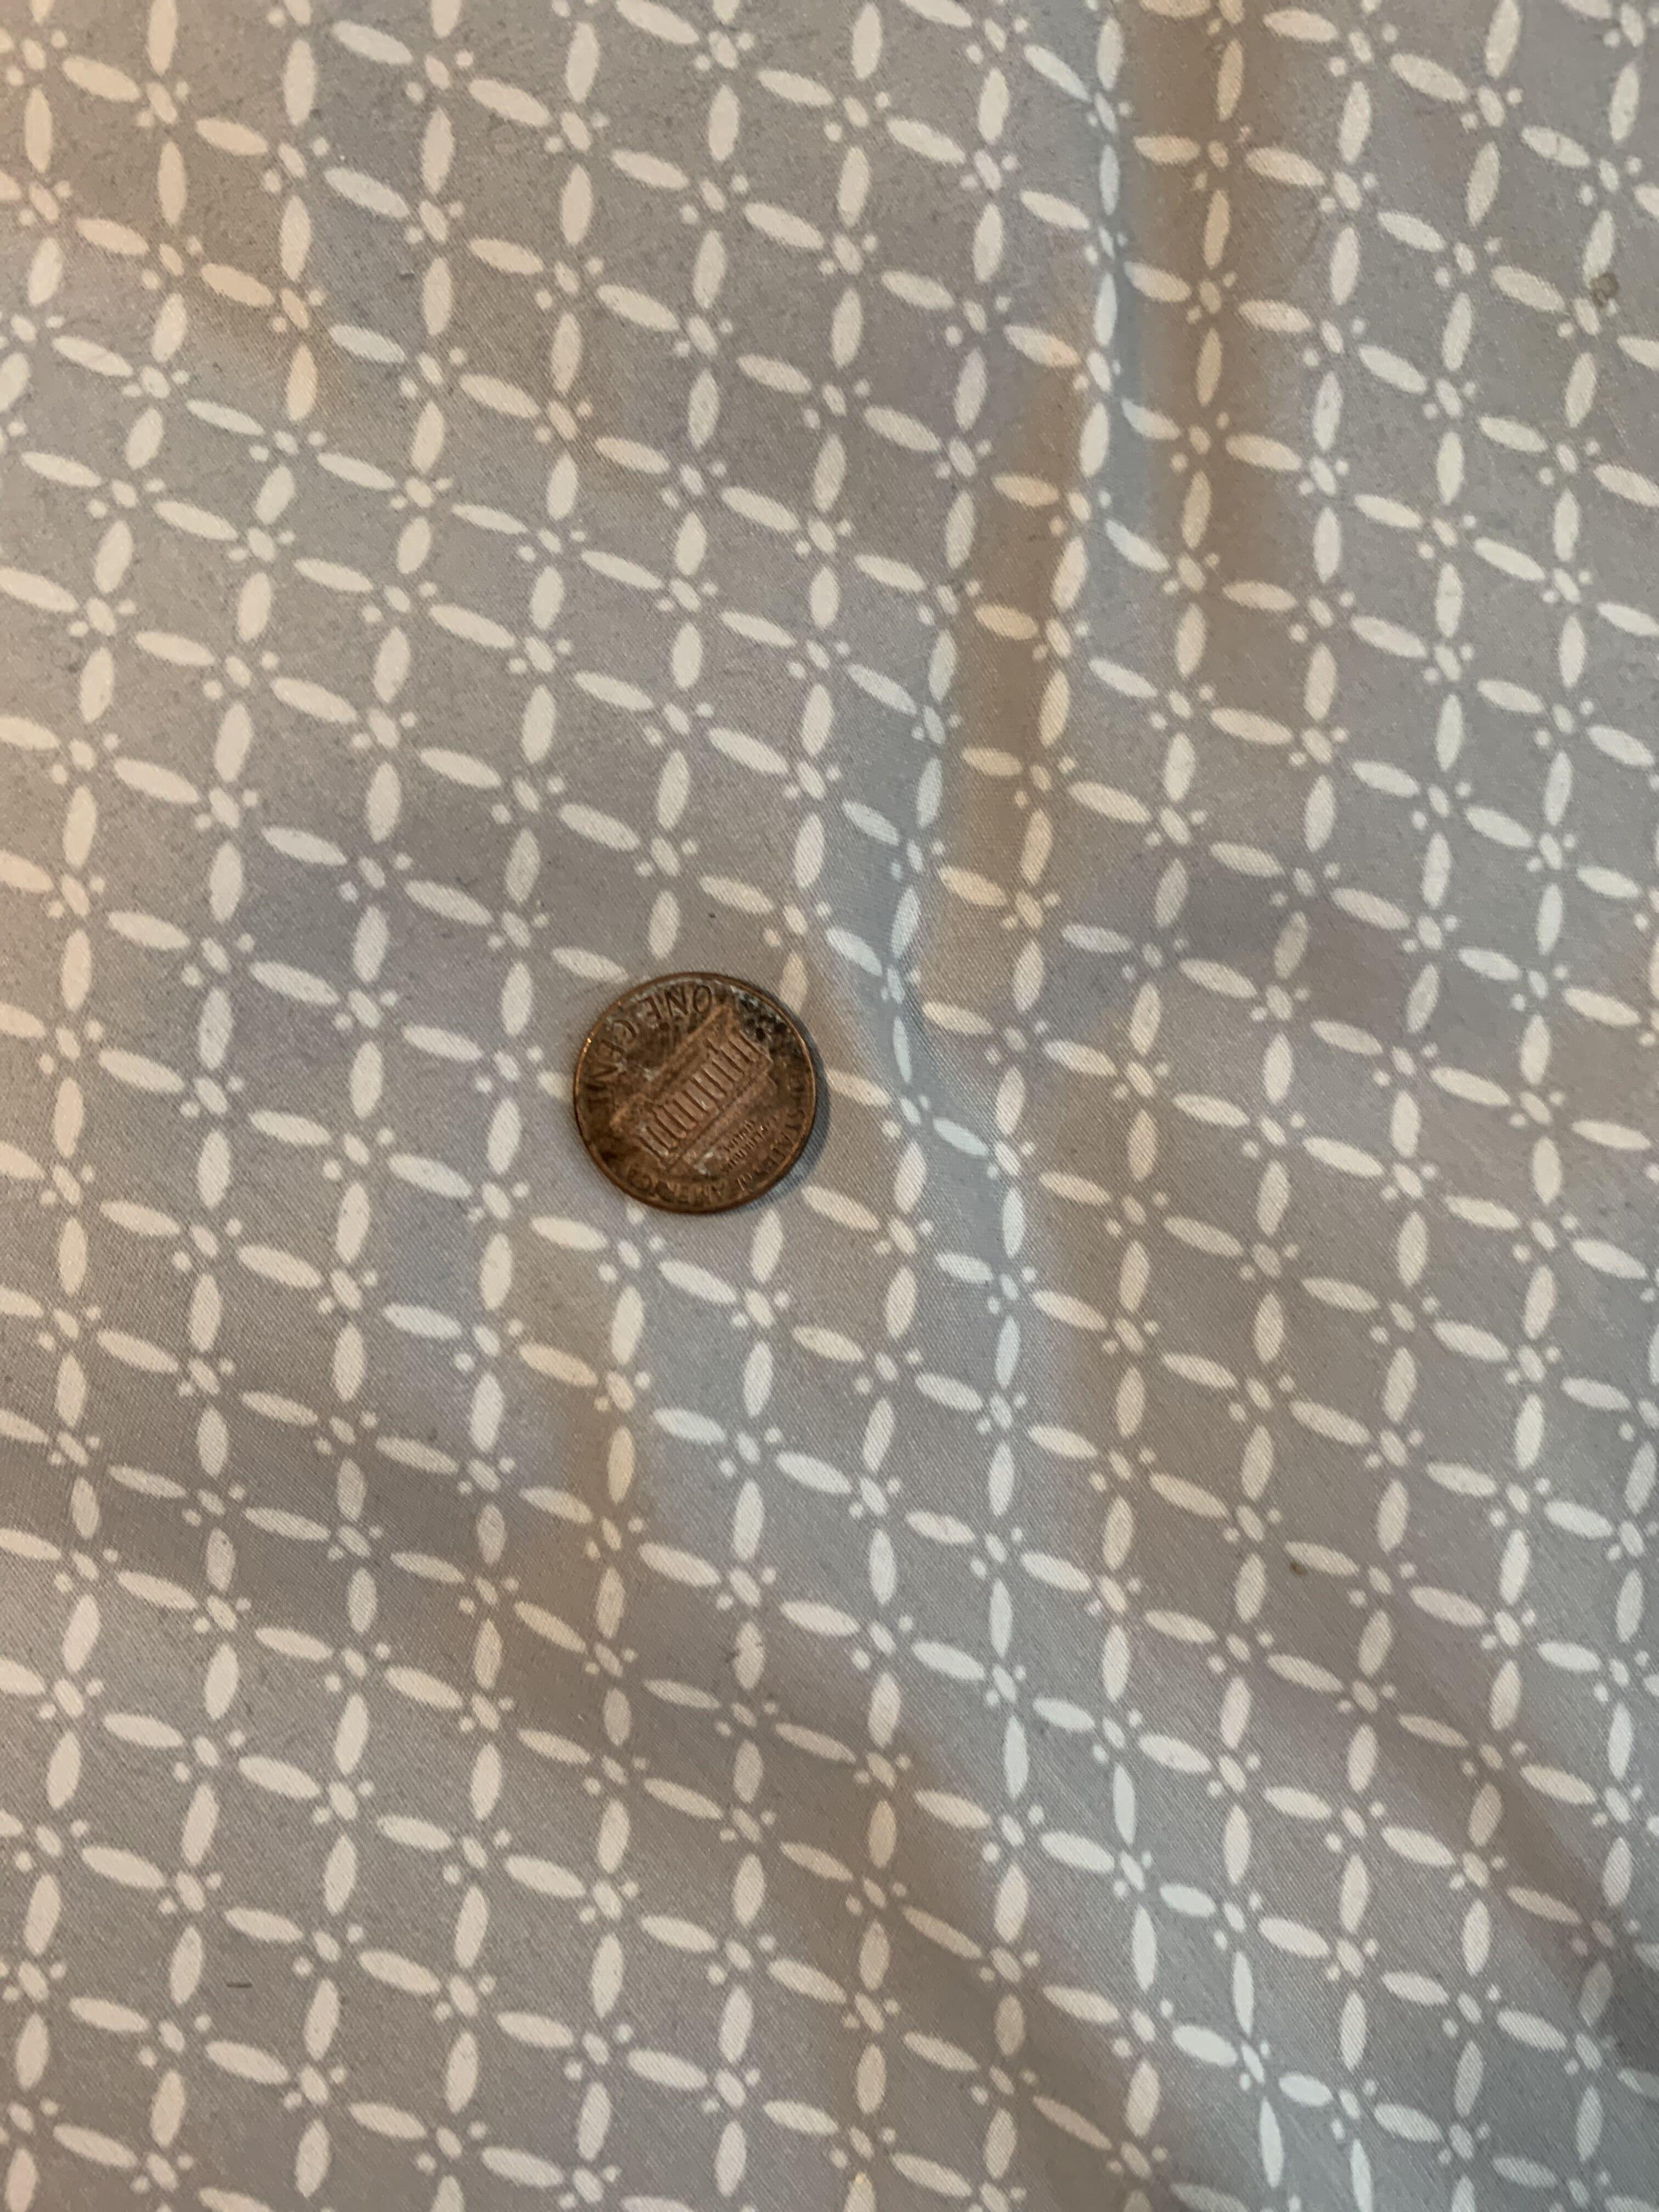Penny: (511, 949, 856, 1240)
